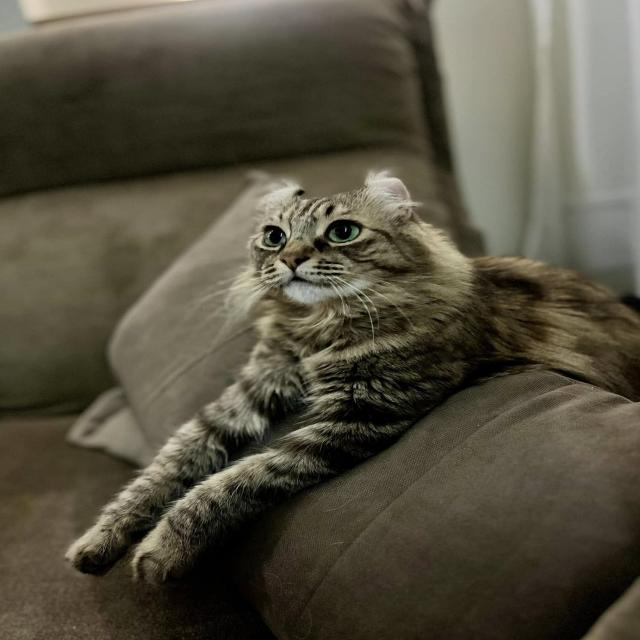American Curl: (54, 168, 640, 594)
